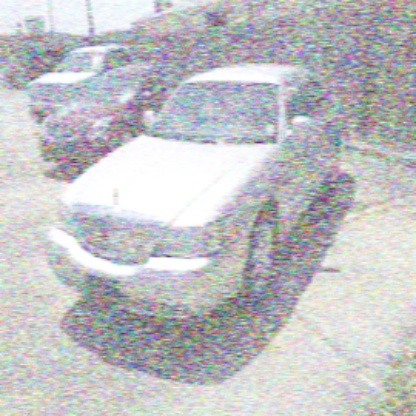Vehicle: (50, 50, 344, 327)
